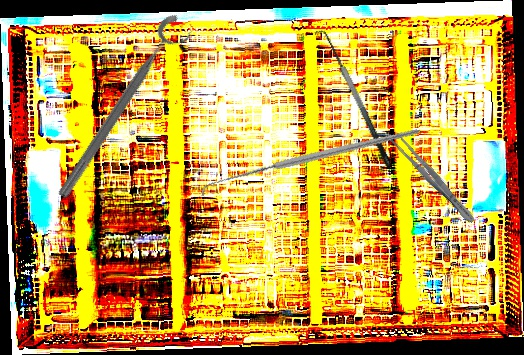Dressing Forceps: (388, 131, 479, 227)
Fixation Ring: (52, 10, 198, 209)
Hook Surgical: (200, 77, 421, 249)
Spatula Surgical: (312, 24, 394, 175)
